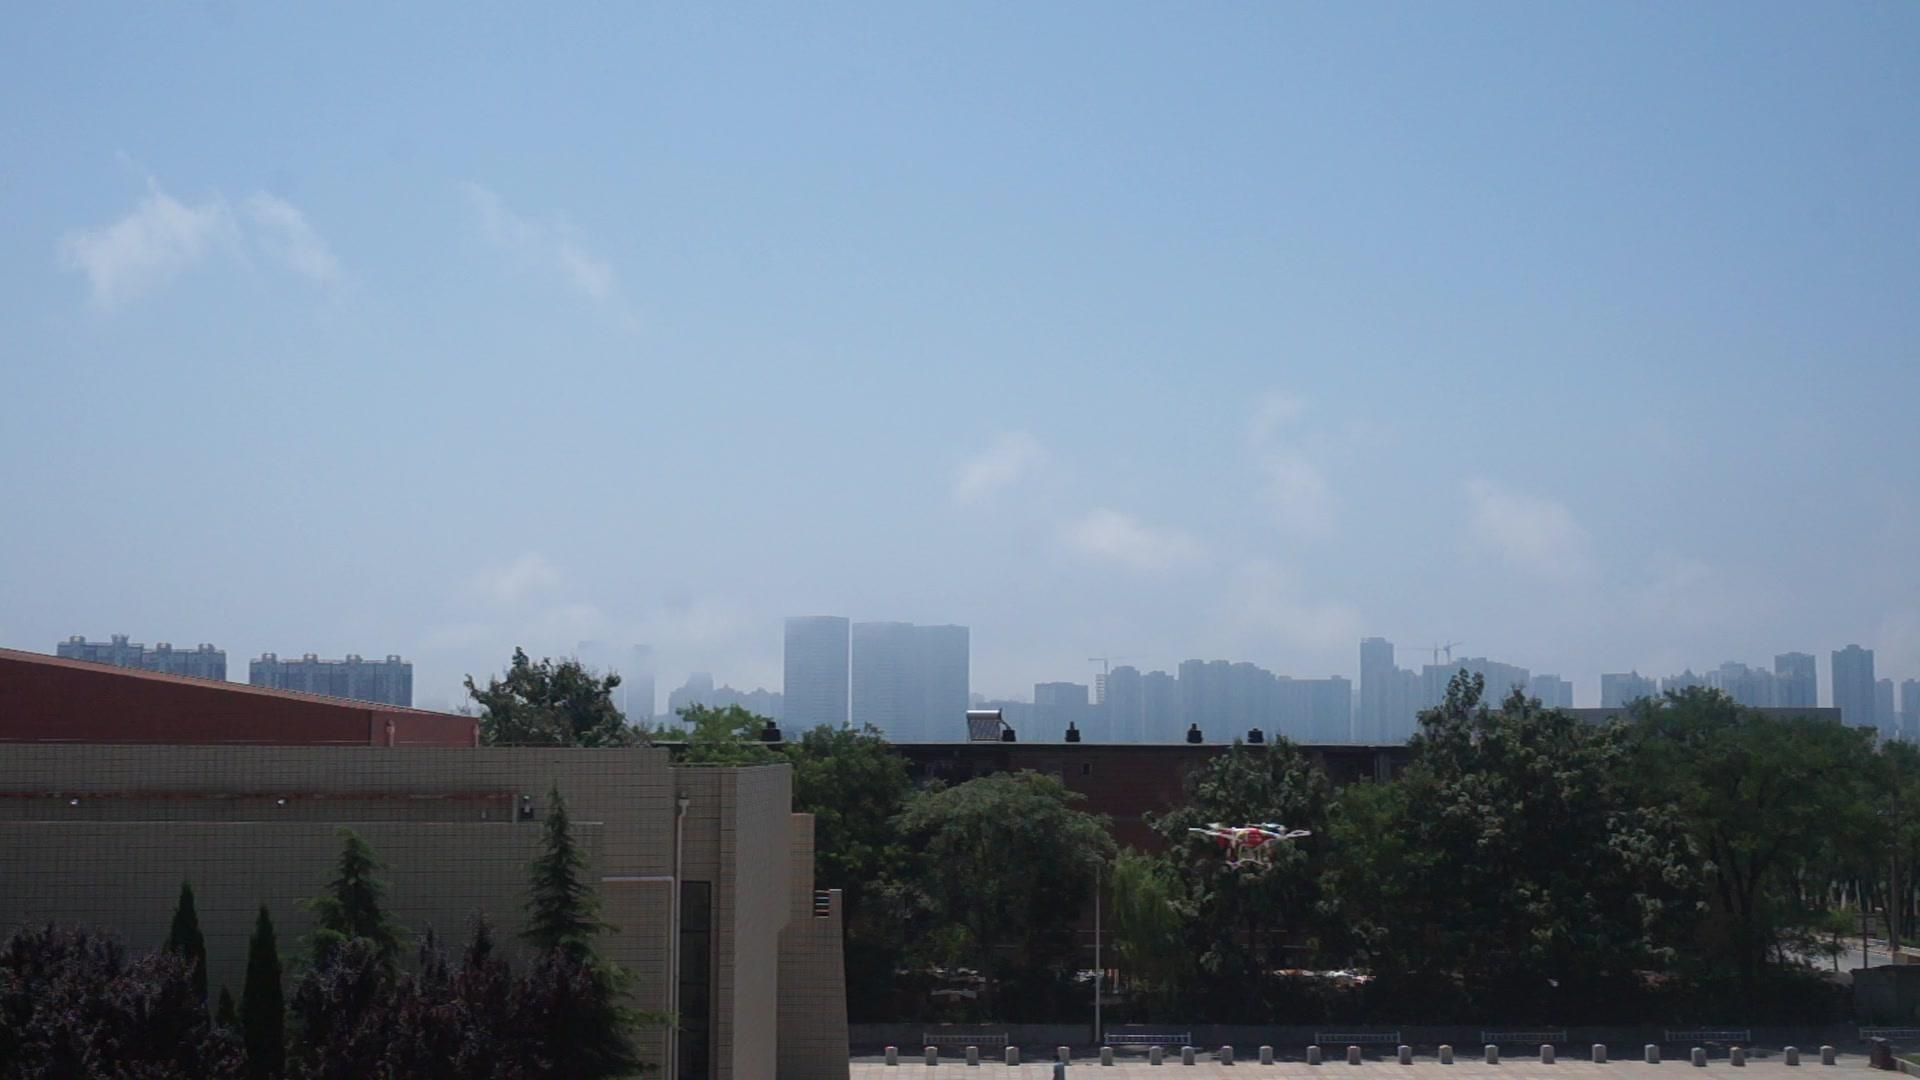UAV: (1188, 822, 1313, 874)
